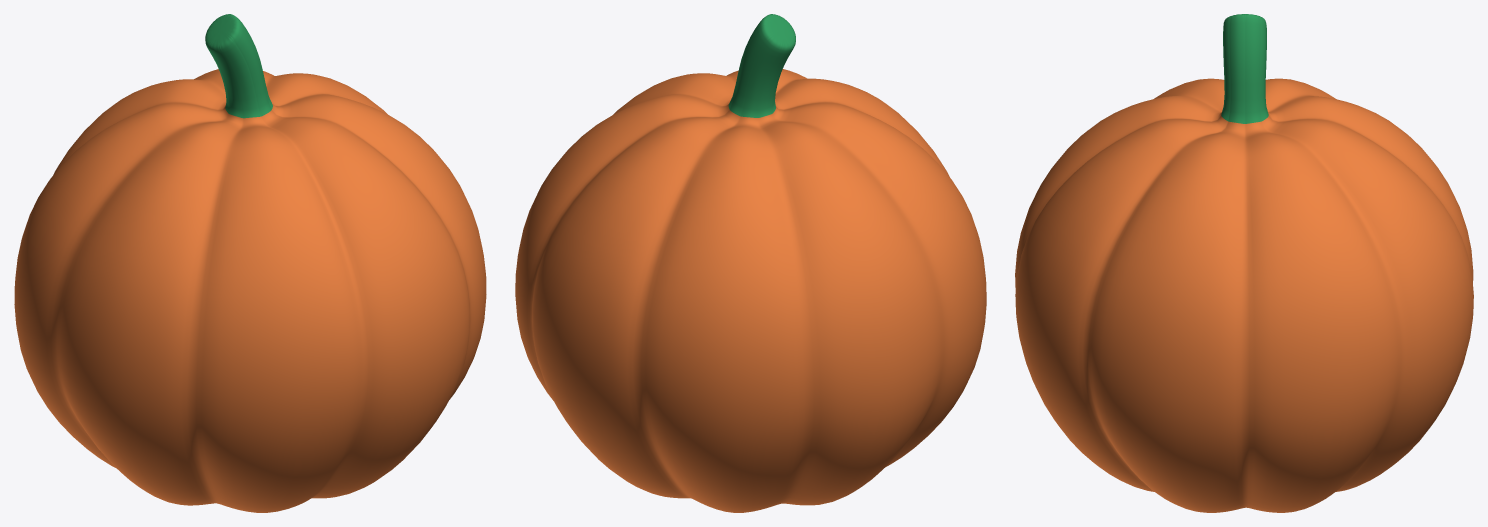
File: pumpkin.glb
3 renders of one model, left to right at view 1: azimuth 30°, elevation 25°; view 2: azimuth 150°, elevation 25°; view 3: azimuth 270°, elevation 25°, orthographic.
Visible parts, largest first — view 1: Sphere; view 2: Sphere; view 3: Sphere.
Boxes of the visible parts, <box> form: Sphere: <box>14,14,486,512</box>; Sphere: <box>515,14,986,512</box>; Sphere: <box>1015,14,1473,512</box>.
Bounding box in the file's own units: 0.6118 × 0.6641 × 0.6201.
